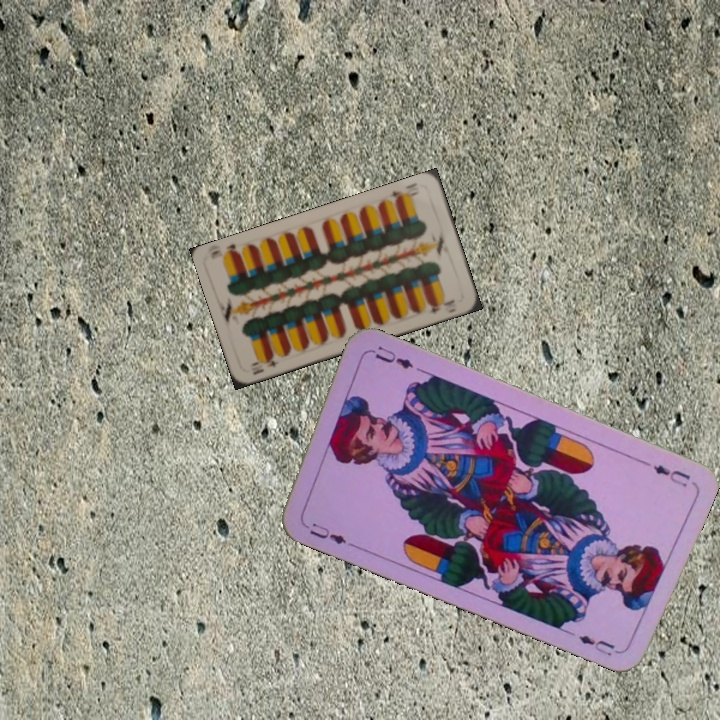E10: (386, 178, 422, 205), (247, 352, 281, 370)
EU: (298, 518, 355, 549), (648, 461, 693, 490)
